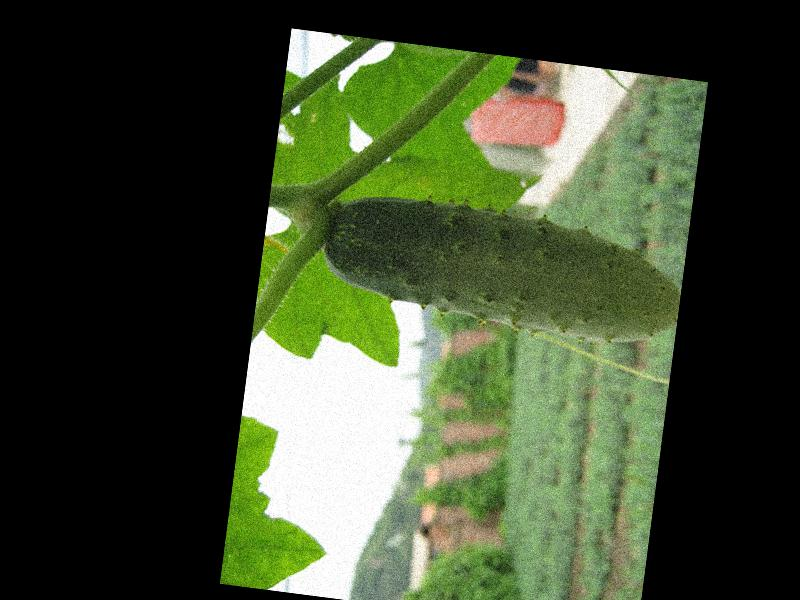Cucumber: (317, 188, 687, 349)
